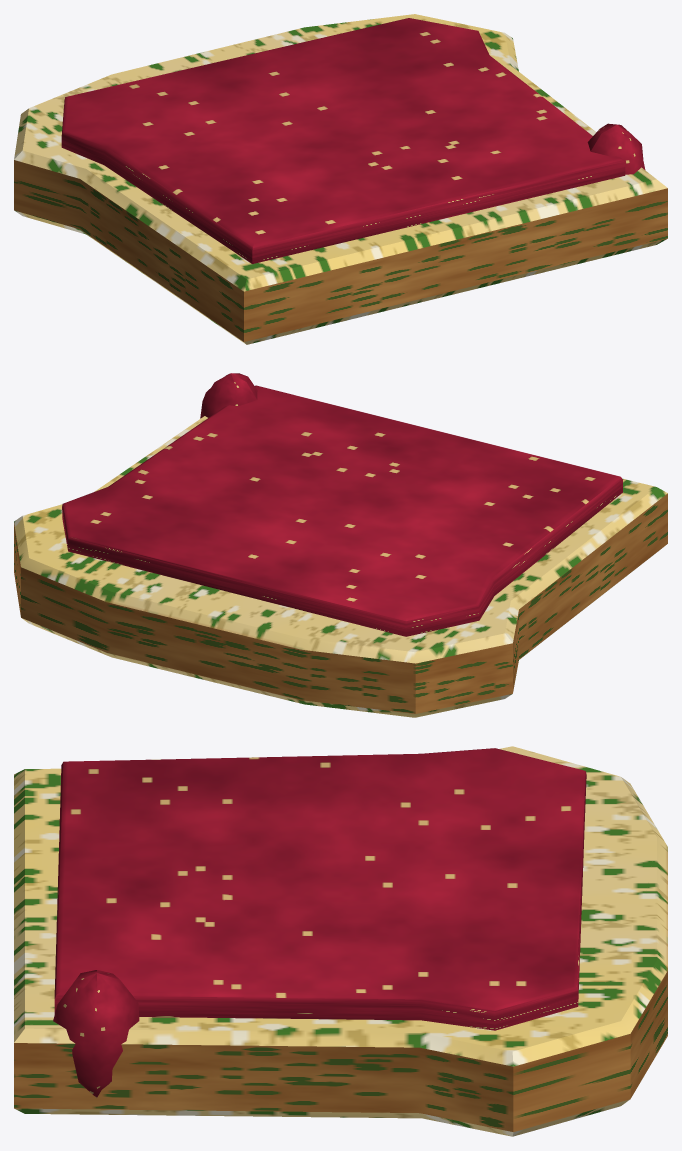
Rendered from jambread.obj.
The picture shows the model from 3 angles, top to bottom: view 1: azimuth 30°, elevation 25°; view 2: azimuth 150°, elevation 25°; view 3: azimuth 270°, elevation 25°; orthographic projection. The views are drawn at different scales.
Parts seen in each view (by area): view 1: jambread_1_surface, jambread_0_surface; view 2: jambread_1_surface, jambread_0_surface; view 3: jambread_1_surface, jambread_0_surface.
Part boxes in pixels (<box>): jambread_1_surface: <box>61,18,645,263</box>; jambread_0_surface: <box>14,14,667,344</box>; jambread_1_surface: <box>62,373,622,636</box>; jambread_0_surface: <box>14,416,667,717</box>; jambread_1_surface: <box>53,748,586,1097</box>; jambread_0_surface: <box>14,746,667,1136</box>.
Size of the model in its own units: 0.2069 by 0.0407 by 0.181.
2 materials, 2 textured.
